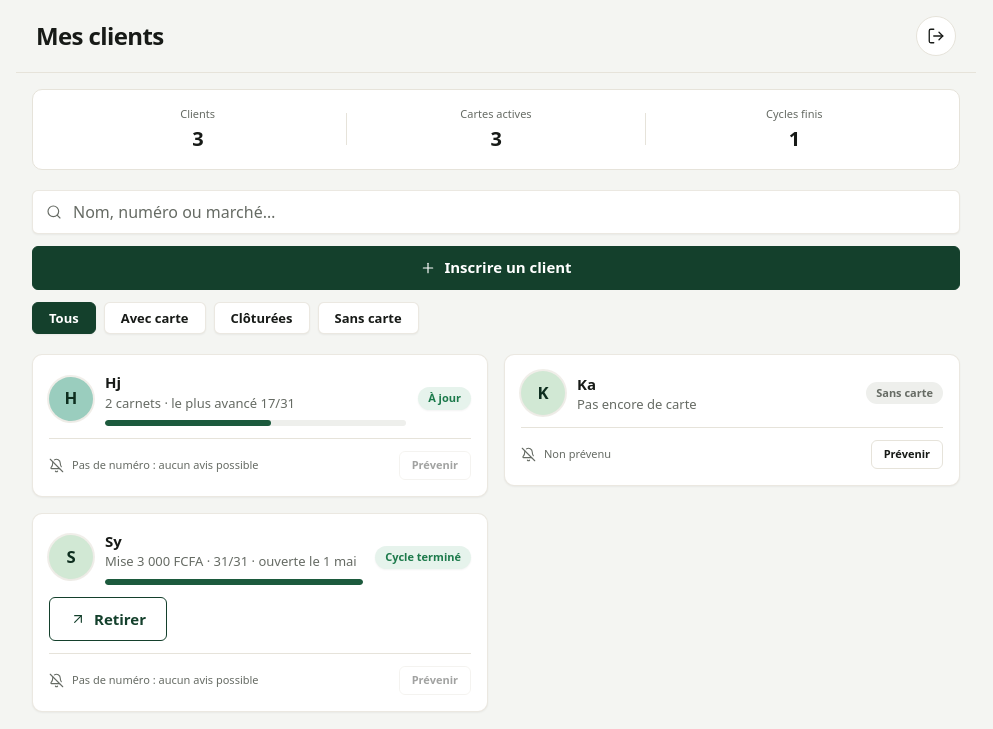
Test case: recherche de client › trouve un client par son marché
Expected: the text "Hj" is shown, [105,372,121,392]
Type "sokou" into the field named "Rechercher un client" at (496, 212), box [32,190,960,234]
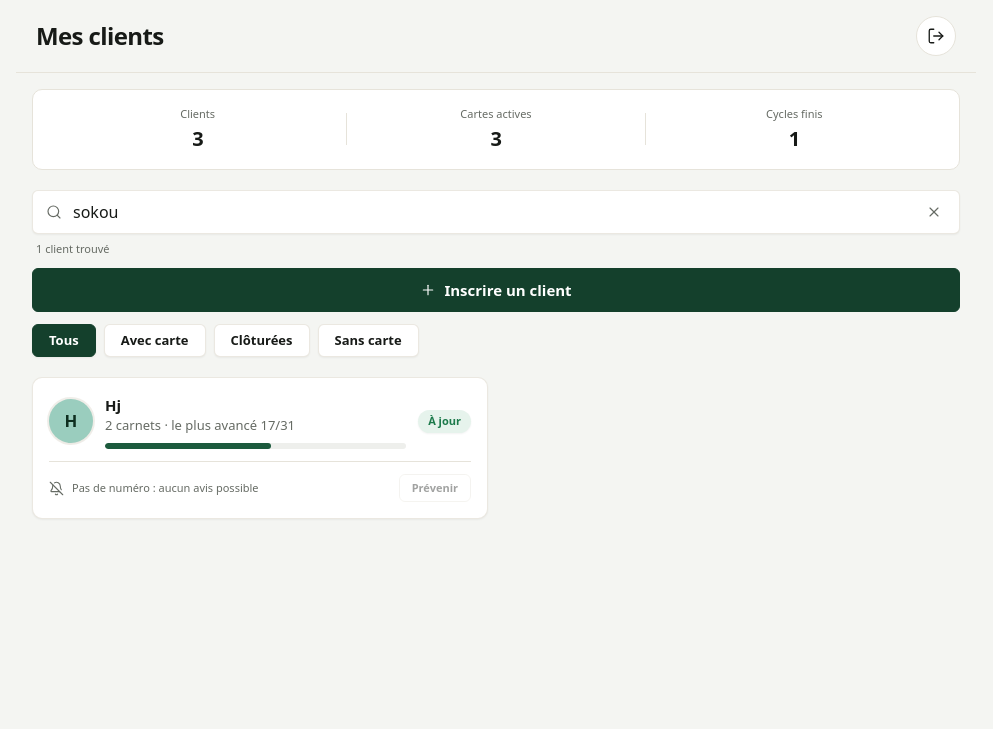
Expected: the text "Hj" is shown, [105,395,121,415]
Now the button "Ka" is gone
